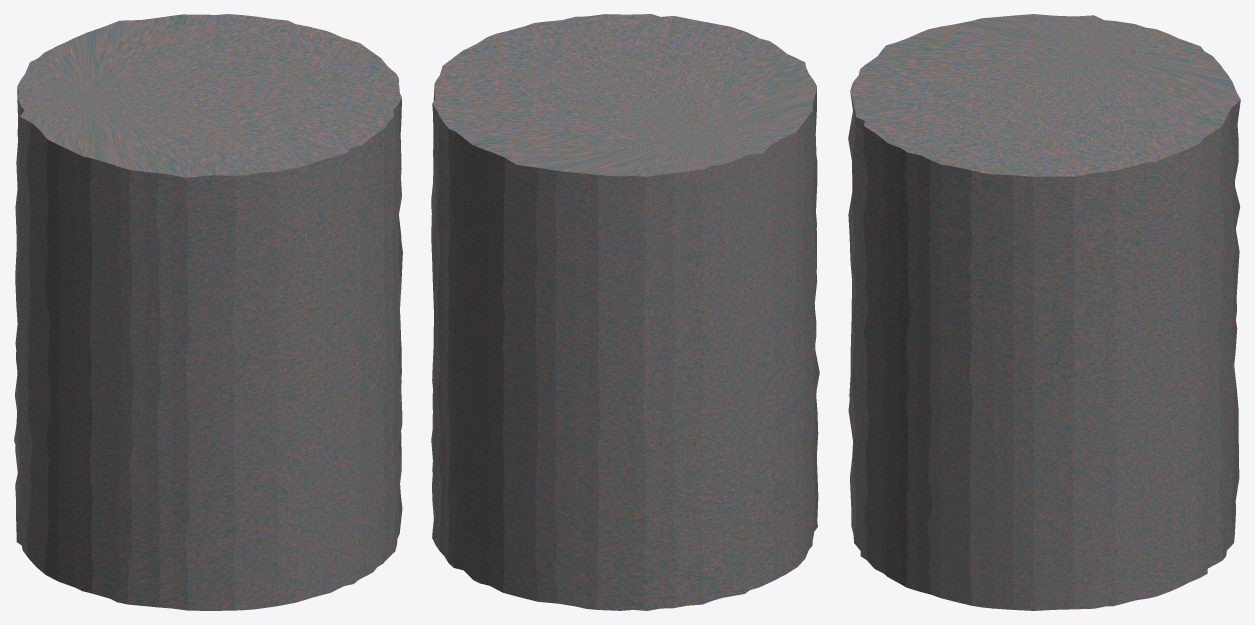
The model's file is barrel_51.dae.
3 renders of one model, left to right at view 1: azimuth 30°, elevation 25°; view 2: azimuth 150°, elevation 25°; view 3: azimuth 270°, elevation 25°, orthographic.
Parts seen in each view (by area): view 1: Cylinder; view 2: Cylinder; view 3: Cylinder.
Part boxes in pixels (x1,y1,x2,y2): Cylinder: (14, 14, 402, 610); Cylinder: (431, 14, 819, 610); Cylinder: (848, 14, 1240, 610).
Bounding box in the file's own units: 0.8193 × 0.8183 × 1.
1 material, 1 textured.
